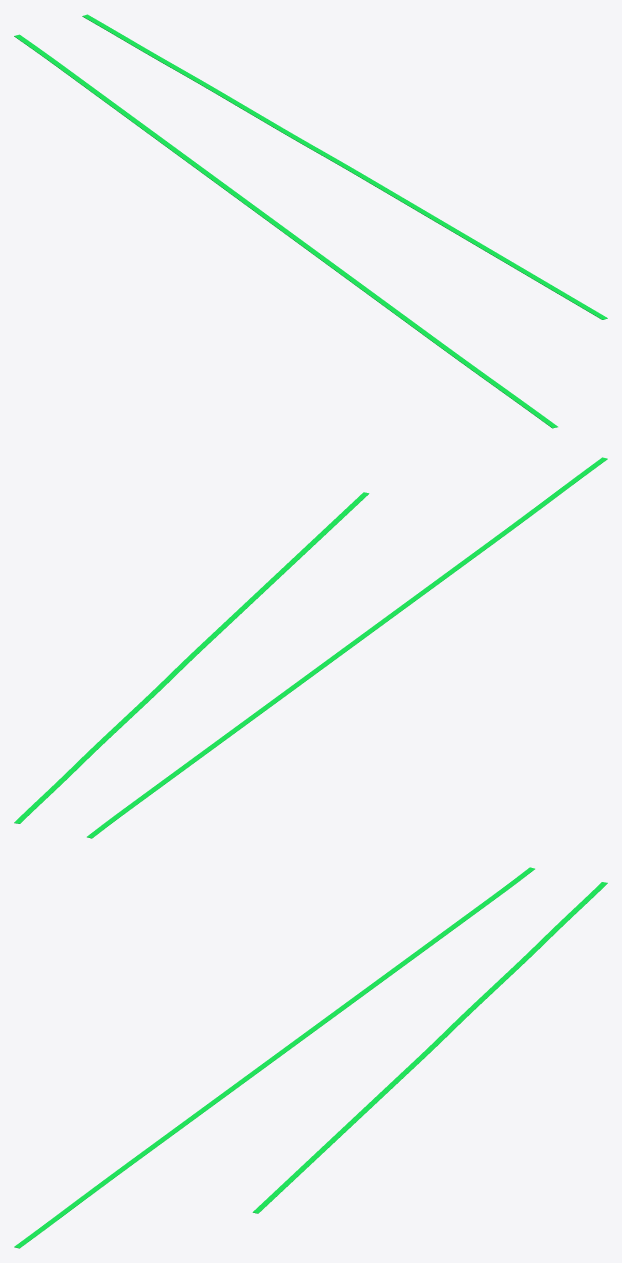
The model's file is SepangDrs.glb.
The picture shows the model from 3 angles, top to bottom: view 1: azimuth 30°, elevation 25°; view 2: azimuth 150°, elevation 25°; view 3: azimuth 330°, elevation 25°; orthographic projection. The views are drawn at different scales.
Parts seen in each view (by area): view 1: DrsStrip_2, DrsStrip_1; view 2: DrsStrip_2, DrsStrip_1; view 3: DrsStrip_2, DrsStrip_1.
Boxes of the visible parts, x1,y1,x2,y2 form: DrsStrip_2: [14, 34, 557, 428]; DrsStrip_1: [82, 14, 607, 319]; DrsStrip_2: [87, 457, 607, 838]; DrsStrip_1: [14, 492, 369, 823]; DrsStrip_2: [14, 867, 534, 1248]; DrsStrip_1: [252, 882, 607, 1213].
Size of the model in its own units: 2.47 by 0.006 by 14.8.
